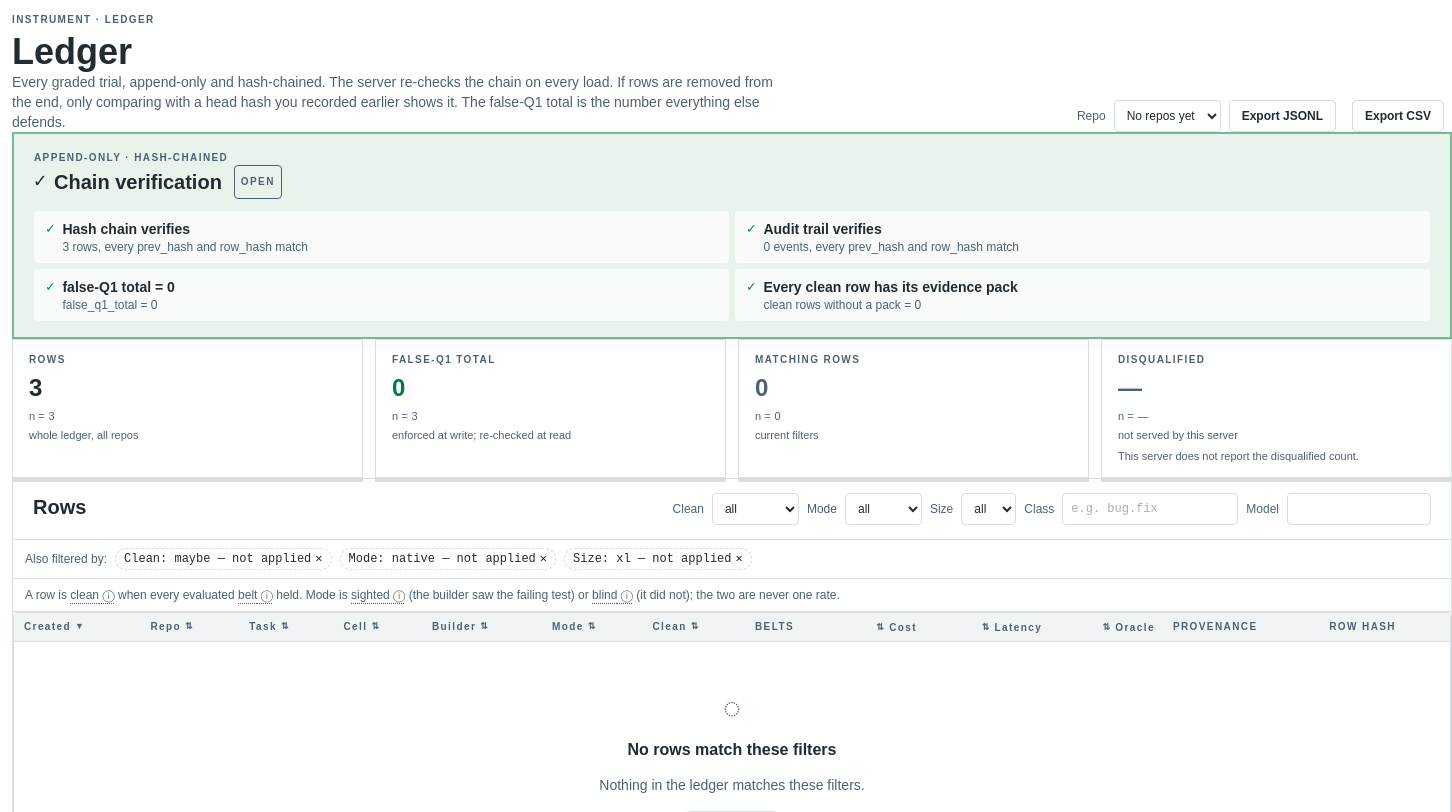
Scenario: LedgerPage — filters that arrive in a link (G-180) › a link value a select does not offer is not applied, and says so as a chip that removes it (G-180)
The image size is (1452, 812).
Expected: the button with test id "ledger-filter-chip-mode" shows "Mode: native — not applied", [340,548,556,570]
Expected: the button with test id "ledger-filter-chip-clean" shows "Clean: maybe — not applied", [115,548,332,570]
Click the button with test id "ledger-filter-chip-size".
click(658, 559)  # box [564,548,752,570]
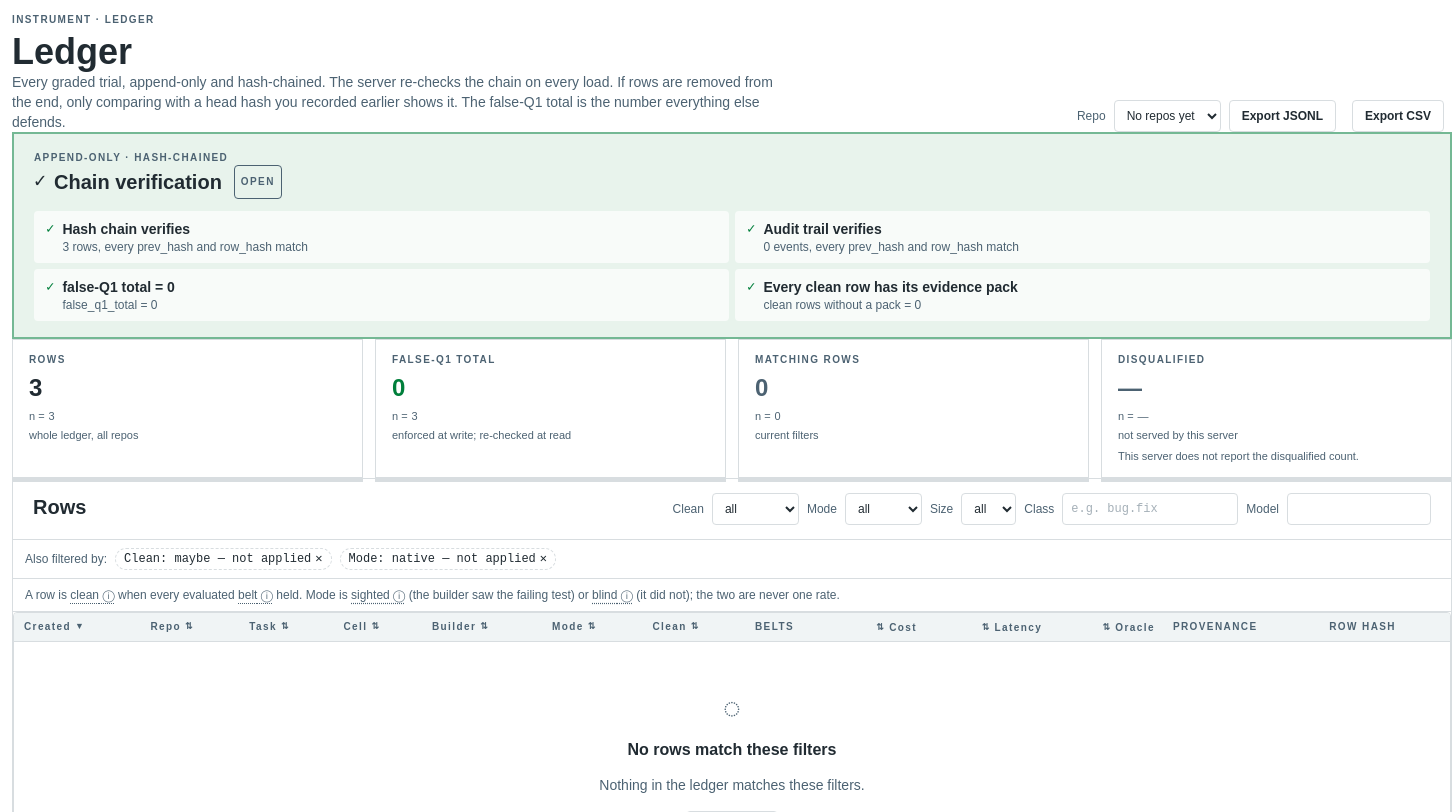
Expected: the button with test id "ledger-filter-chip-mode" is shown, [340,548,556,570]
Result: the button with test id "ledger-filter-chip-size" is gone
